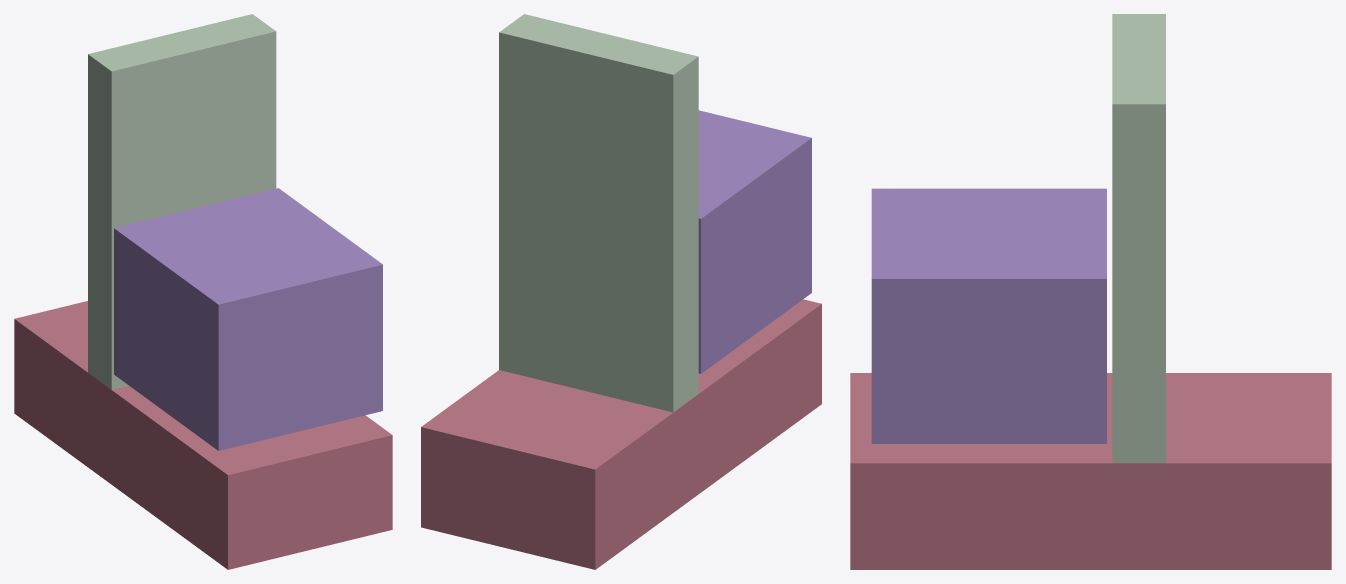
3 renders of one model, left to right at view 1: azimuth 30°, elevation 25°; view 2: azimuth 150°, elevation 25°; view 3: azimuth 270°, elevation 25°, orthographic. The views are drawn at different scales.
Parts seen in each view (by area): view 1: world; view 2: world; view 3: world.
Boxes of the visible parts, x1=… form: world: x1=14, y1=14, x2=392, y2=569; world: x1=421, y1=14, x2=821, y2=569; world: x1=850, y1=14, x2=1331, y2=569.
Size of the model in its own units: 2 by 4.8 by 4.5.
